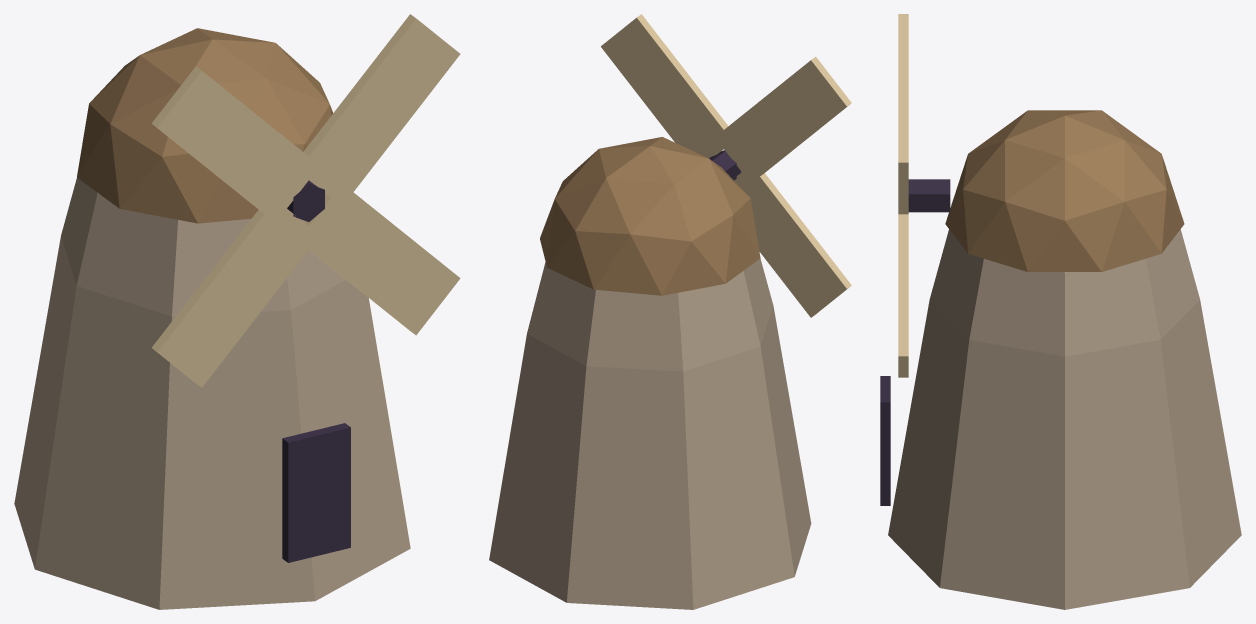
File: windmill-small.glb
3 renders of one model, left to right at view 1: azimuth 30°, elevation 25°; view 2: azimuth 150°, elevation 25°; view 3: azimuth 270°, elevation 25°, orthographic. The views are drawn at different scales.
Parts seen in each view (by area): view 1: medieval-windmill-small; view 2: medieval-windmill-small; view 3: medieval-windmill-small.
Part boxes in pixels (left/top/right/bottom): medieval-windmill-small: left=14, top=14, right=460, bottom=609; medieval-windmill-small: left=489, top=14, right=851, bottom=609; medieval-windmill-small: left=880, top=14, right=1241, bottom=609.
Bounding box in the file's own units: 0.51 × 0.7574 × 0.5212.
